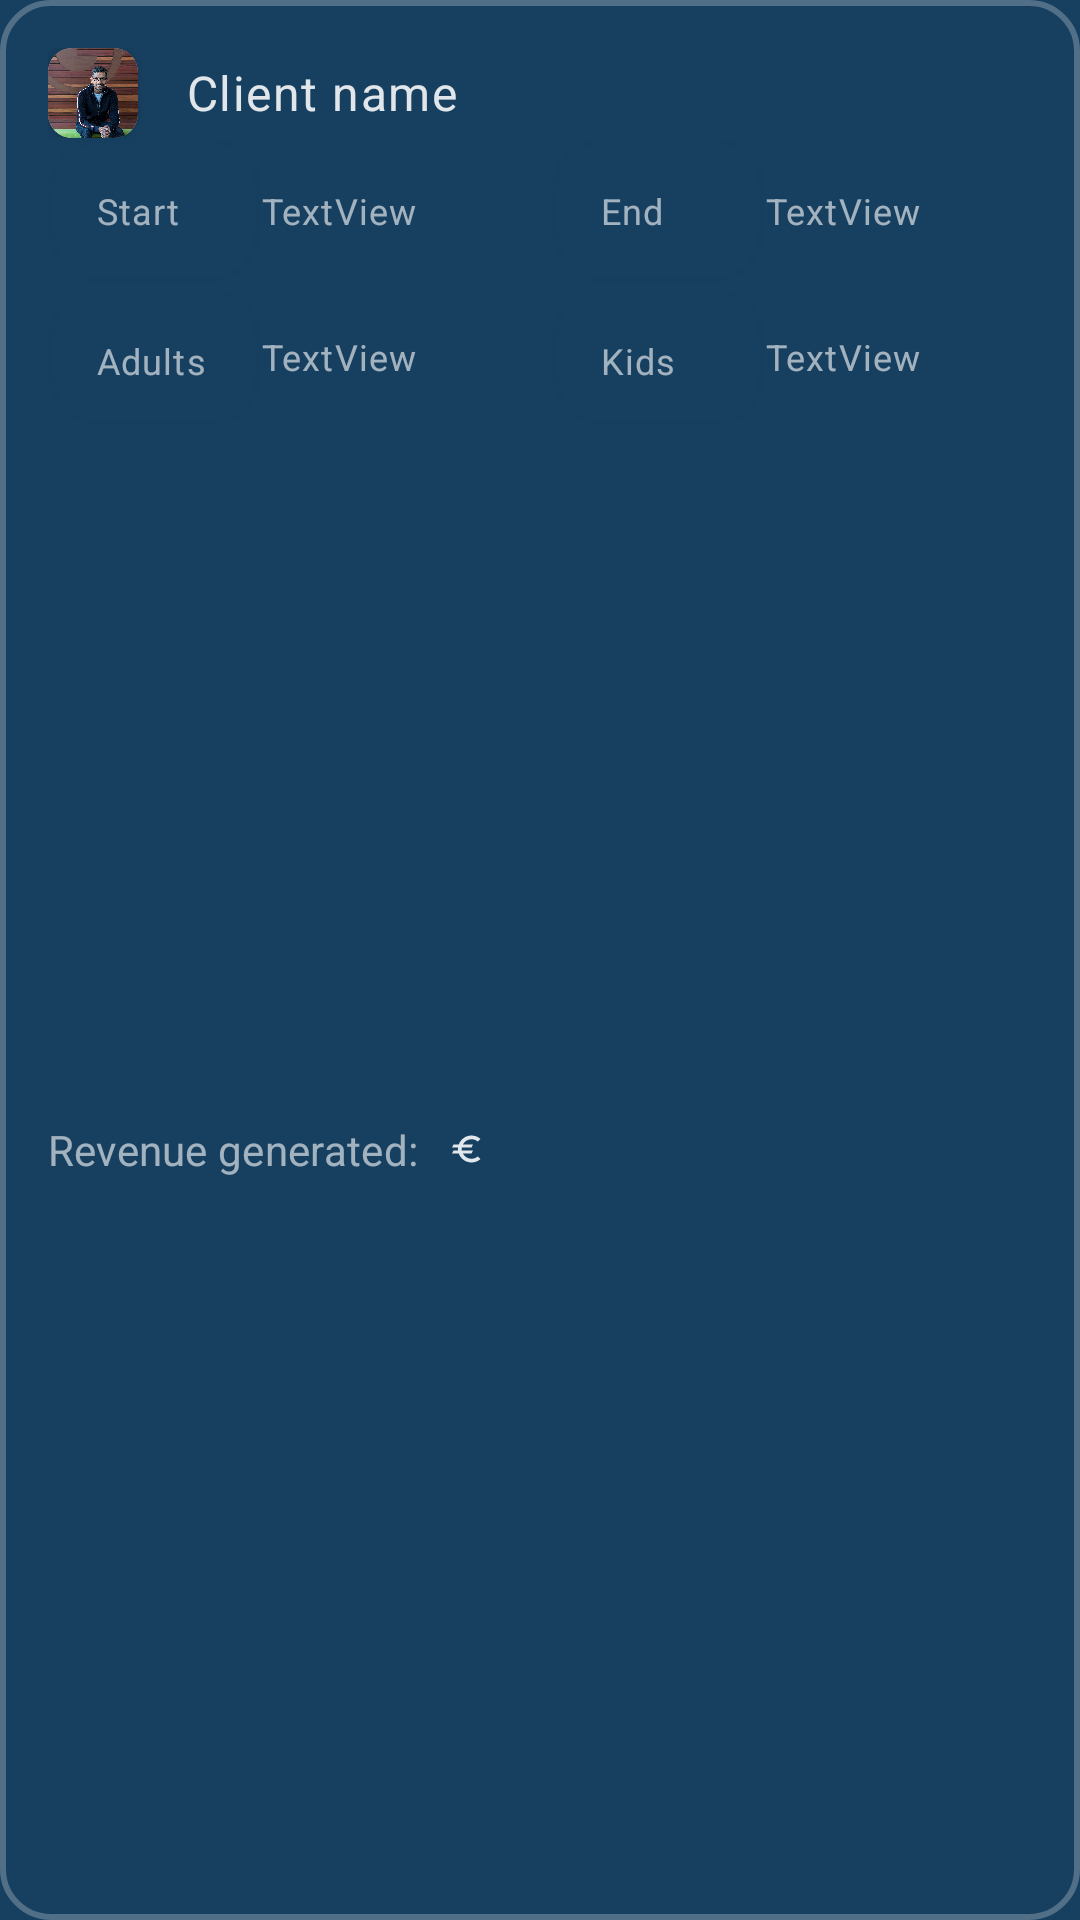

Locate icon controls on the screen. Image size 1080px×1920px, boxes as (x1, y1, x2, y2).
profile pic example: (48, 48, 138, 138)
